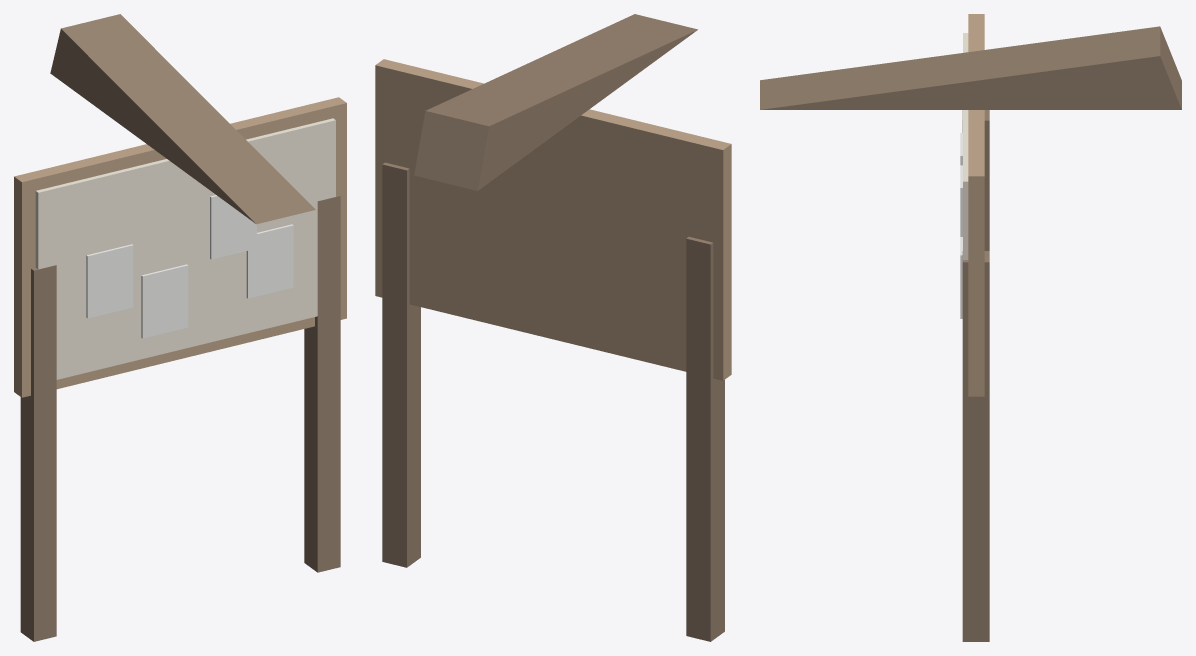
File: yard-notice-board.glb
The picture shows the model from 3 angles, left to right: view 1: azimuth 30°, elevation 25°; view 2: azimuth 150°, elevation 25°; view 3: azimuth 270°, elevation 25°; orthographic projection. The views are drawn at different scales.
Parts seen in each view (by area): view 1: notice-board; view 2: notice-board; view 3: notice-board.
Boxes of the visible parts, left/top/right/bottom form: notice-board: left=14, top=14, right=346, bottom=641; notice-board: left=375, top=14, right=731, bottom=641; notice-board: left=760, top=14, right=1181, bottom=641.
Bounding box in the file's own units: 1.42 × 2.14 × 1.56.
